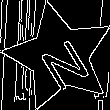N_NW: (28, 25, 90, 88)
